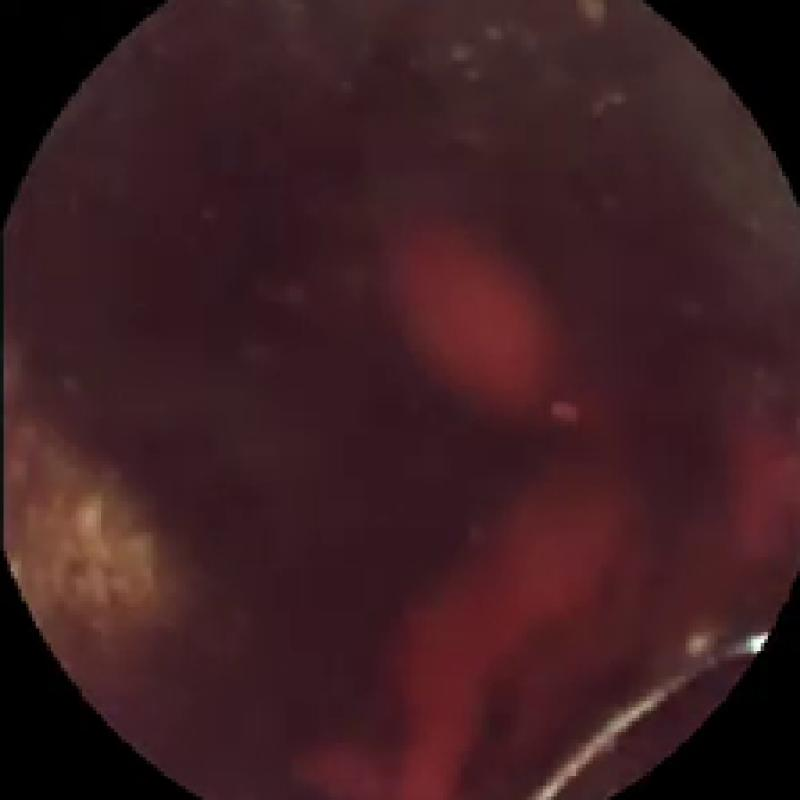bleeding: (294, 456, 632, 800), (386, 214, 554, 418), (706, 395, 800, 578)
